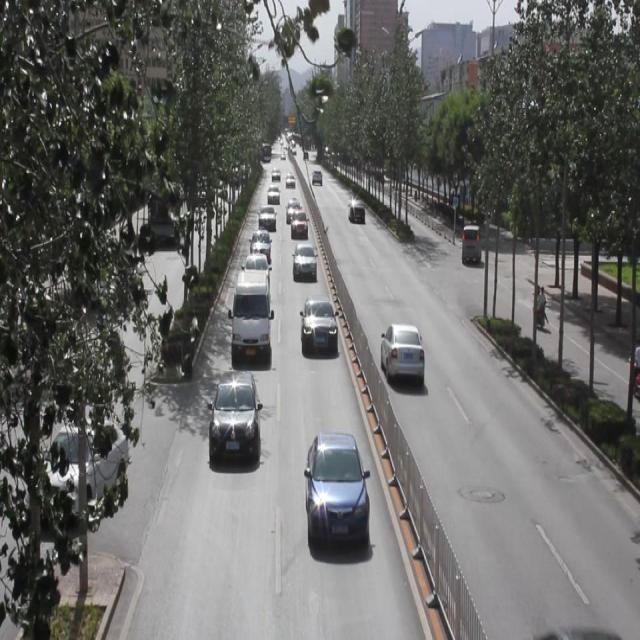car: (304, 428, 367, 544), (208, 368, 261, 457), (379, 319, 423, 380), (300, 294, 337, 352), (292, 240, 316, 278), (245, 250, 268, 286), (250, 226, 270, 258), (290, 207, 307, 234), (348, 195, 365, 220), (259, 202, 275, 227), (285, 195, 300, 219)
truck: (231, 266, 271, 349)
